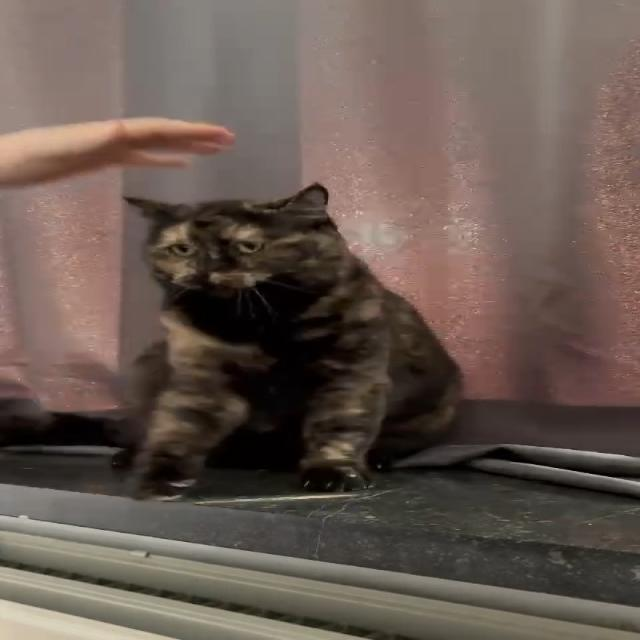authorized: (119, 181, 464, 500)
